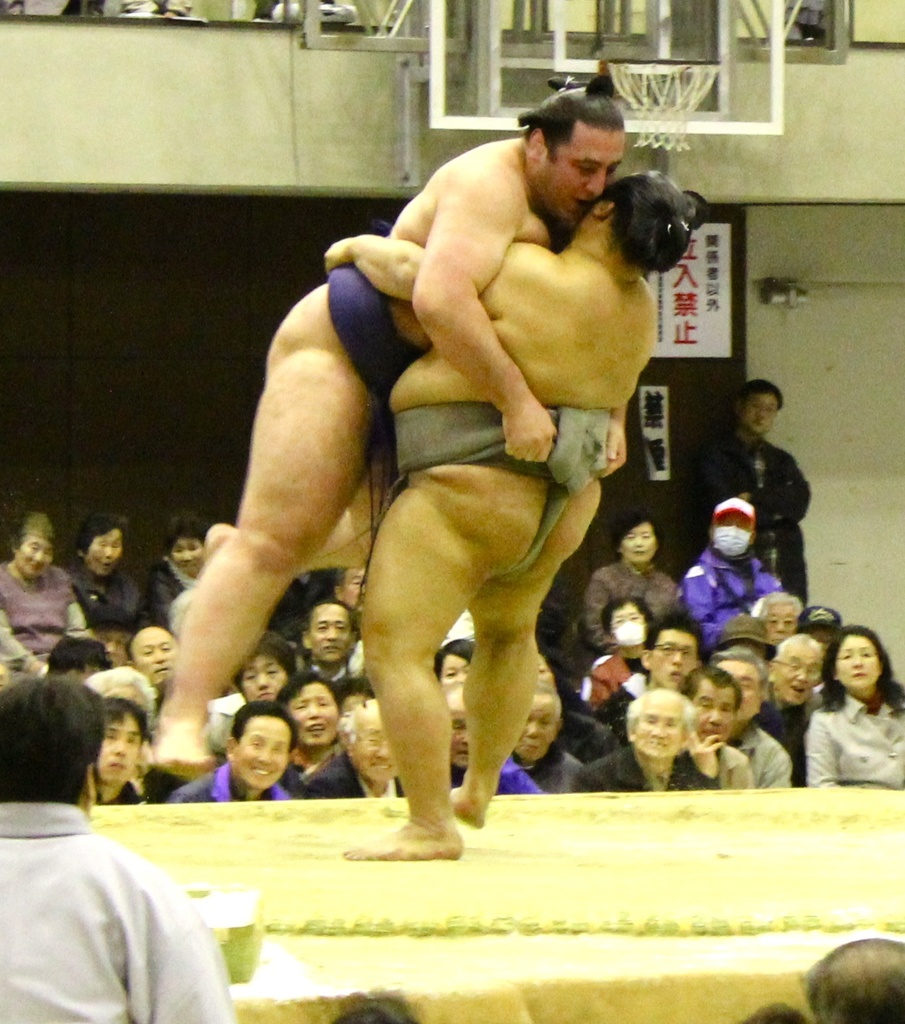Person: (0, 74, 903, 1024)
